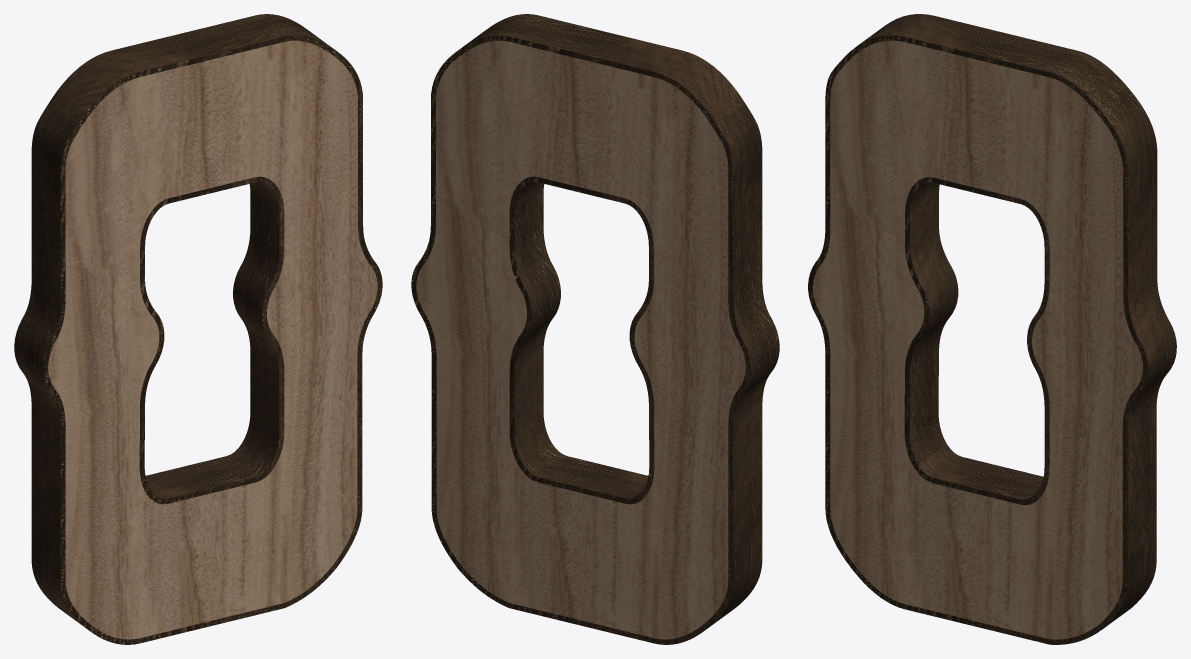
The picture shows the model from 3 angles, left to right: view 1: azimuth 30°, elevation 25°; view 2: azimuth 150°, elevation 25°; view 3: azimuth 330°, elevation 25°; orthographic projection.
Visible parts, largest first — view 1: 0, 0_outline; view 2: 0, 0_outline; view 3: 0, 0_outline.
Boxes of the visible parts, x1,y1,x2,y2 form: 0: (48, 40, 377, 639); 0_outline: (14, 14, 382, 644); 0: (416, 40, 745, 639); 0_outline: (411, 14, 779, 644); 0: (813, 40, 1142, 639); 0_outline: (808, 14, 1176, 644).
Size of the model in its own units: 67.68 by 109 by 10.
Materials: 2 (2 with a texture image).
